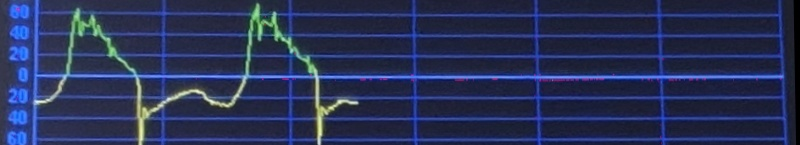hydrop_flow: (21, 8, 377, 145)
